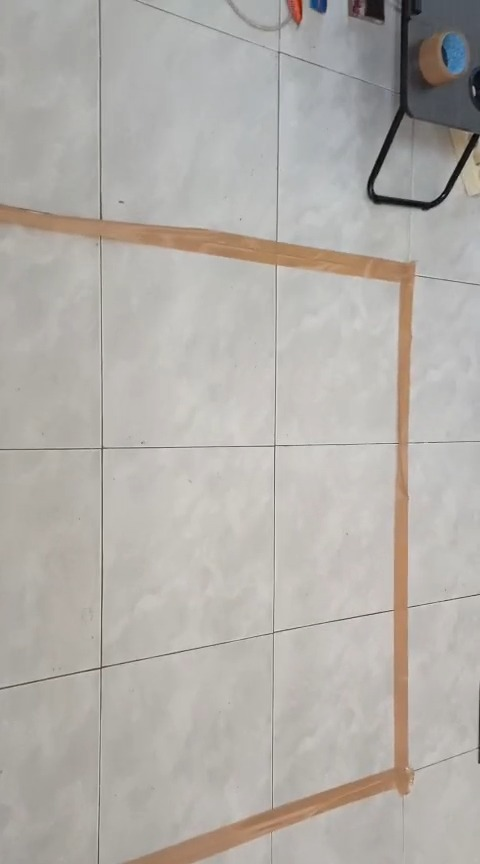floor marking: (2, 205, 414, 863)
